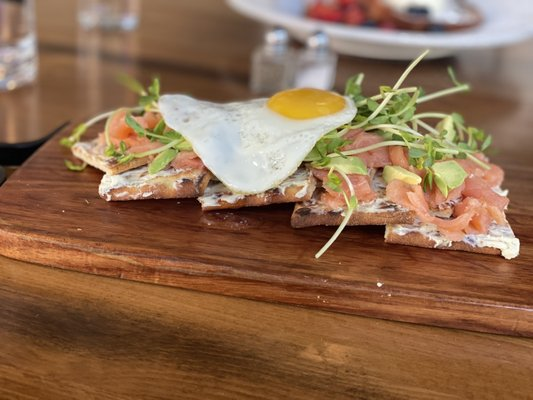pizza: (0, 0, 40, 94)
